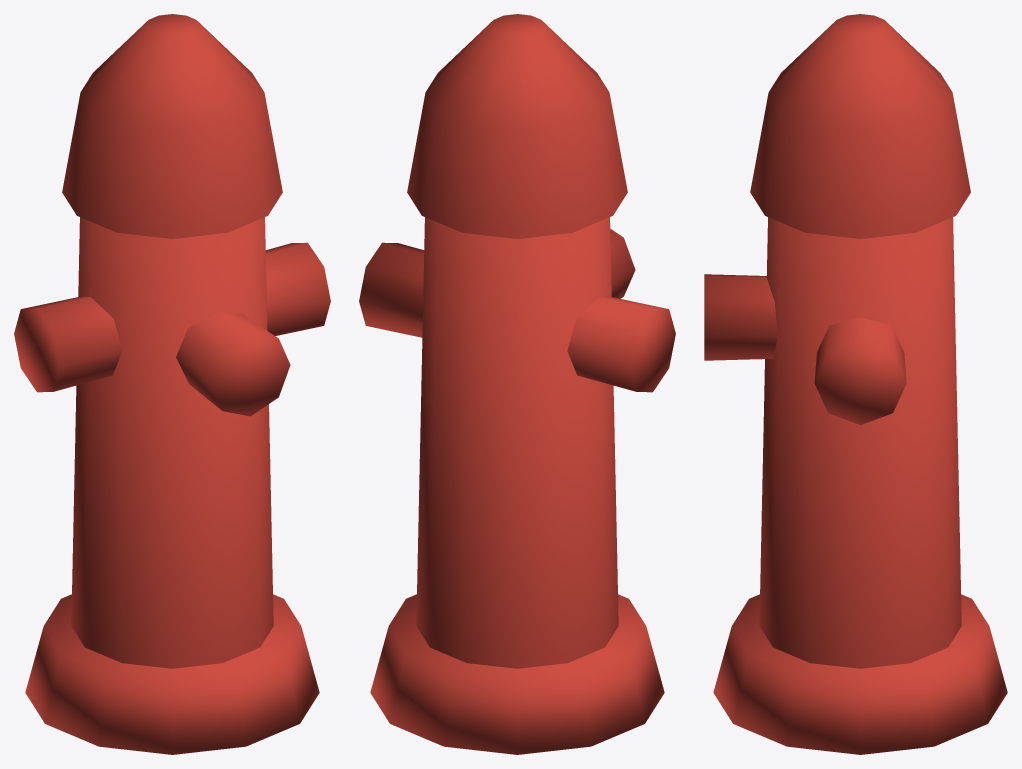
File: hydrant.glb
The picture shows the model from 3 angles, left to right: view 1: azimuth 30°, elevation 25°; view 2: azimuth 150°, elevation 25°; view 3: azimuth 270°, elevation 25°; orthographic projection.
Parts seen in each view (by area): view 1: hydrant; view 2: hydrant; view 3: hydrant.
Boxes of the visible parts, x1,y1,x2,y2 form: hydrant: (14, 14, 330, 754); hydrant: (359, 14, 675, 754); hydrant: (704, 14, 1007, 754).
Size of the model in its own units: 0.34 by 0.8 by 0.33.
